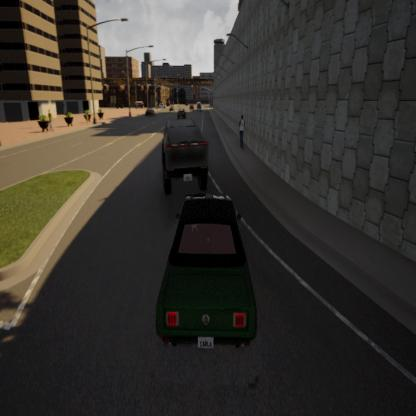Cars: (148, 189, 266, 371), (147, 118, 213, 194), (175, 106, 189, 119), (145, 107, 156, 119), (196, 101, 202, 113), (190, 103, 194, 111)
Pedestrian: (236, 113, 247, 155)
